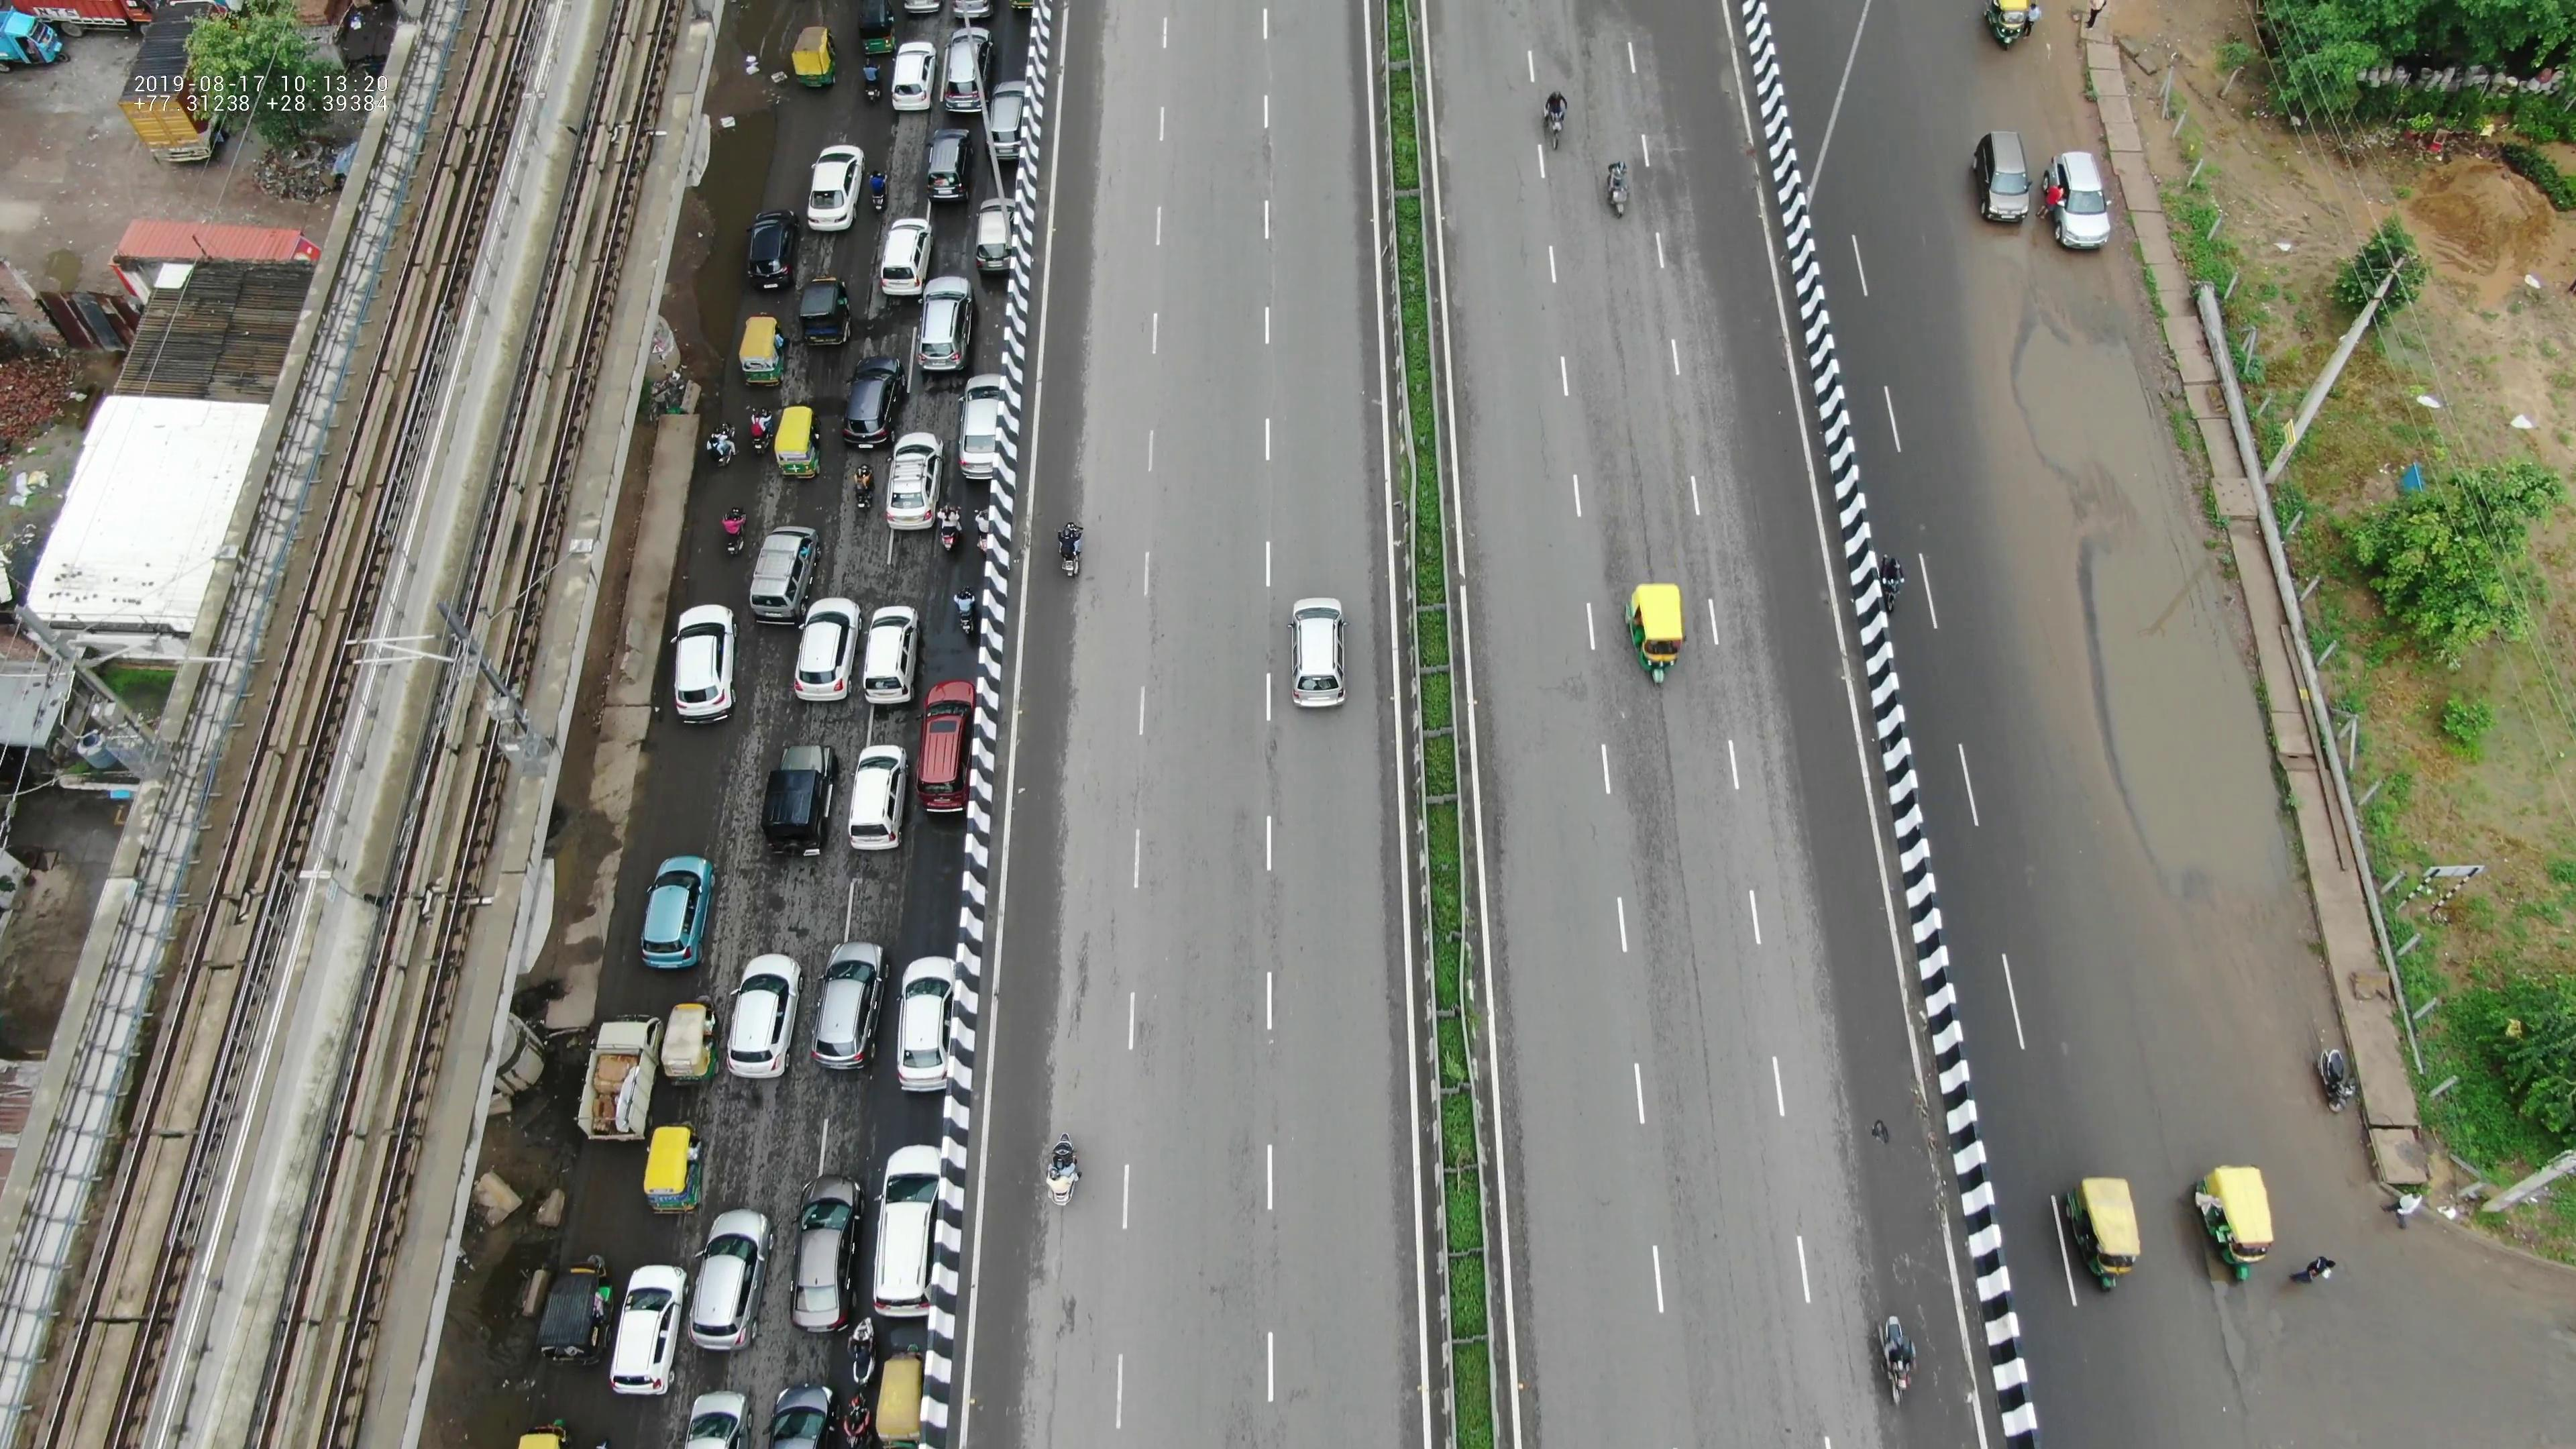Ravelling: (1591, 276, 1700, 577), (1626, 699, 1718, 1044)
Waterlogging: (2005, 341, 2263, 863)
